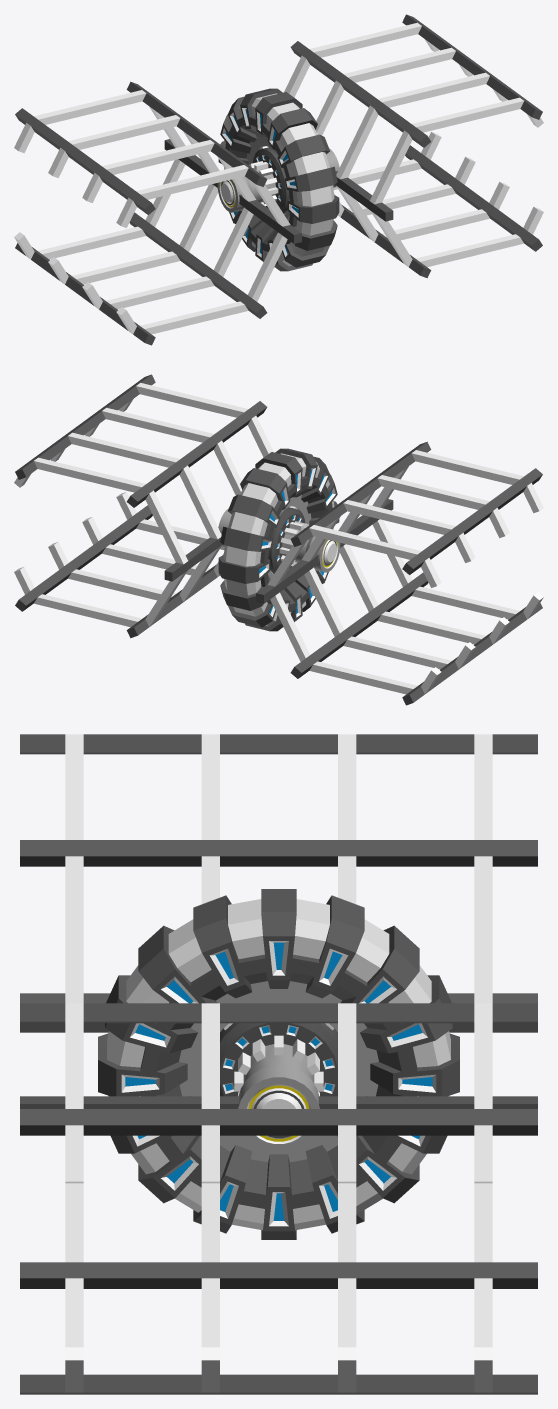
The model's file is station_02.glb.
3 renders of one model, top to bottom at view 1: azimuth 30°, elevation 25°; view 2: azimuth 150°, elevation 25°; view 3: azimuth 270°, elevation 25°, orthographic. The views are drawn at different scales.
Parts seen in each view (by area): view 1: Base_HD, Rotating_HD; view 2: Base_HD, Rotating_HD; view 3: Base_HD, Rotating_HD.
Boxes of the visible parts, <box> form: Base_HD: <box>14,14,543,345</box>; Rotating_HD: <box>218,88,339,271</box>; Base_HD: <box>14,374,543,705</box>; Rotating_HD: <box>218,448,339,631</box>; Base_HD: <box>20,734,537,1394</box>; Rotating_HD: <box>98,889,459,1239</box>.
Size of the model in its own units: 21.5 by 7.96 by 11.4.
